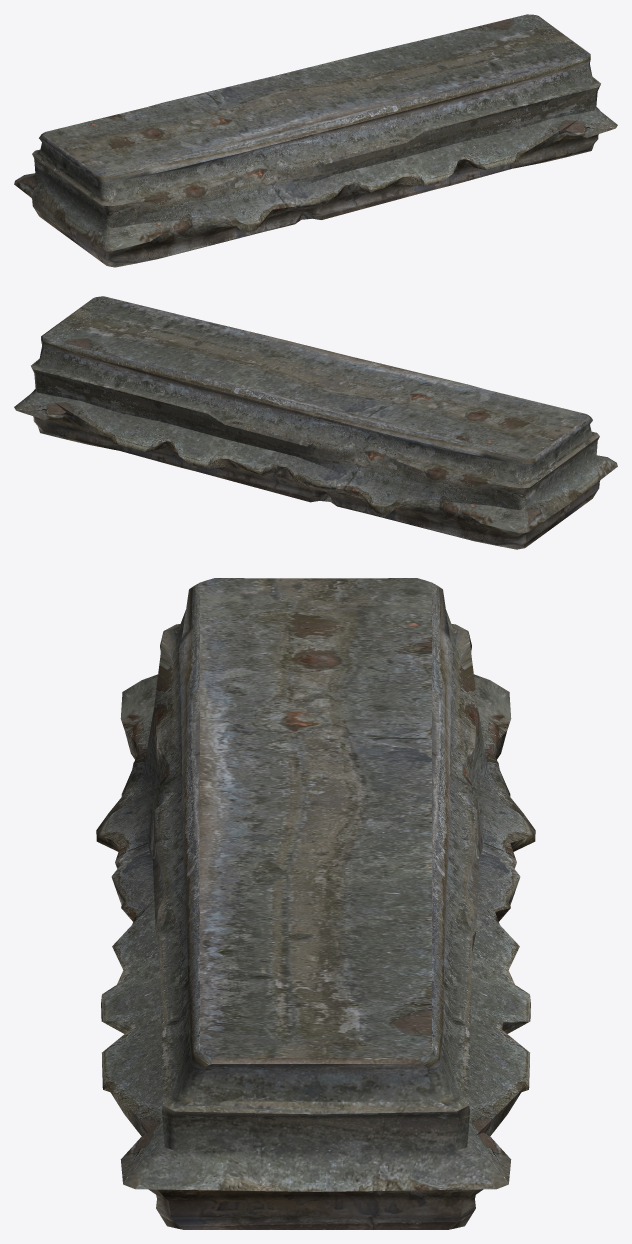
Rendered from SM_ChapelCornice_01_02.fbx.
The picture shows the model from 3 angles, top to bottom: view 1: azimuth 30°, elevation 25°; view 2: azimuth 150°, elevation 25°; view 3: azimuth 270°, elevation 25°; orthographic projection. The views are drawn at different scales.
Visible parts, largest first — view 1: sm_ChapelCornice_01_02_LOD0; view 2: sm_ChapelCornice_01_02_LOD0; view 3: sm_ChapelCornice_01_02_LOD0.
Part boxes in pixels (<box>): sm_ChapelCornice_01_02_LOD0: <box>14,14,617,267</box>; sm_ChapelCornice_01_02_LOD0: <box>14,296,617,549</box>; sm_ChapelCornice_01_02_LOD0: <box>96,578,535,1229</box>.
Bounding box in the file's own units: 98.18 × 268 × 43.79.
